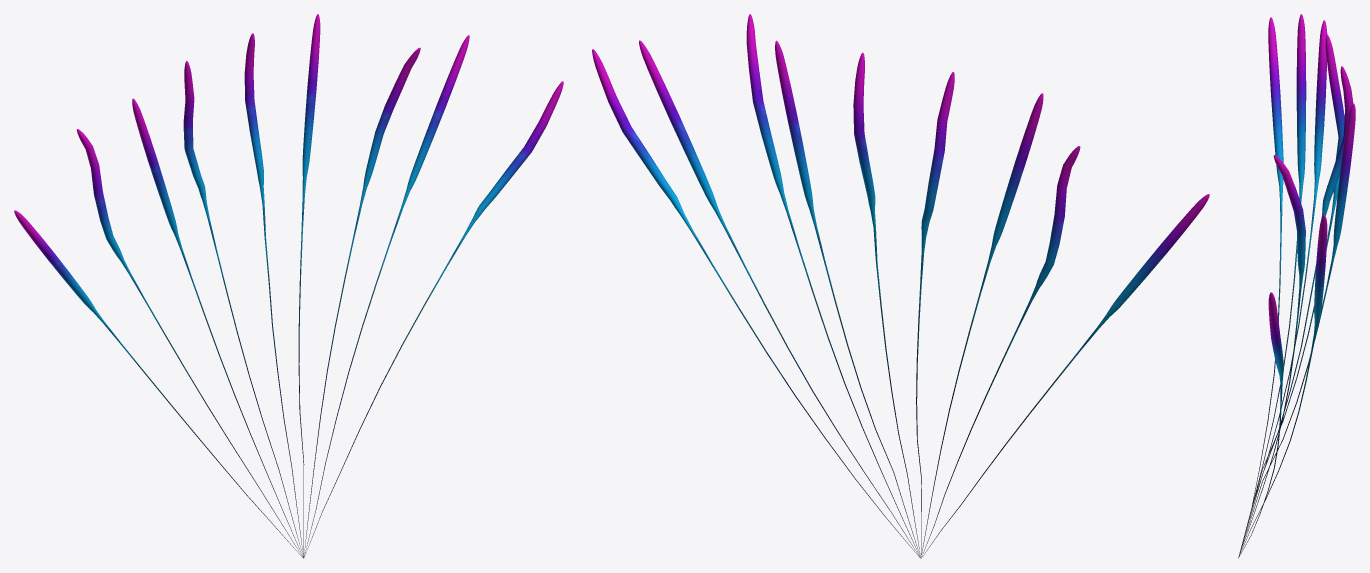
Rendered from Long spikey plant.fbx.
3 views of the same model, side by side, from view 1: azimuth 30°, elevation 25°; view 2: azimuth 150°, elevation 25°; view 3: azimuth 270°, elevation 25° (orthographic). The views are drawn at different scales.
Parts seen in each view (by area): view 1: Cube; view 2: Cube; view 3: Cube.
Boxes of the visible parts, box(x1,y1,x2,y2) form: Cube: box(14, 14, 563, 558); Cube: box(592, 14, 1209, 558); Cube: box(1238, 14, 1355, 558).
Size of the model in its own units: 407 by 346 by 74.76.
Materials: 1 (1 with a texture image).
